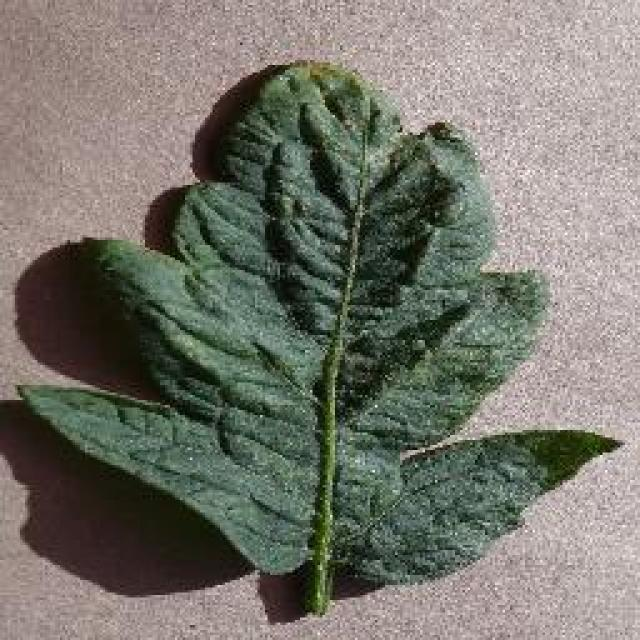Tomato___Spider_mites Two-spotted_spider_mite: (20, 62, 610, 612)
